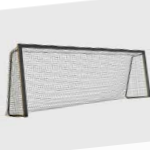goals: (3, 40, 150, 120)
